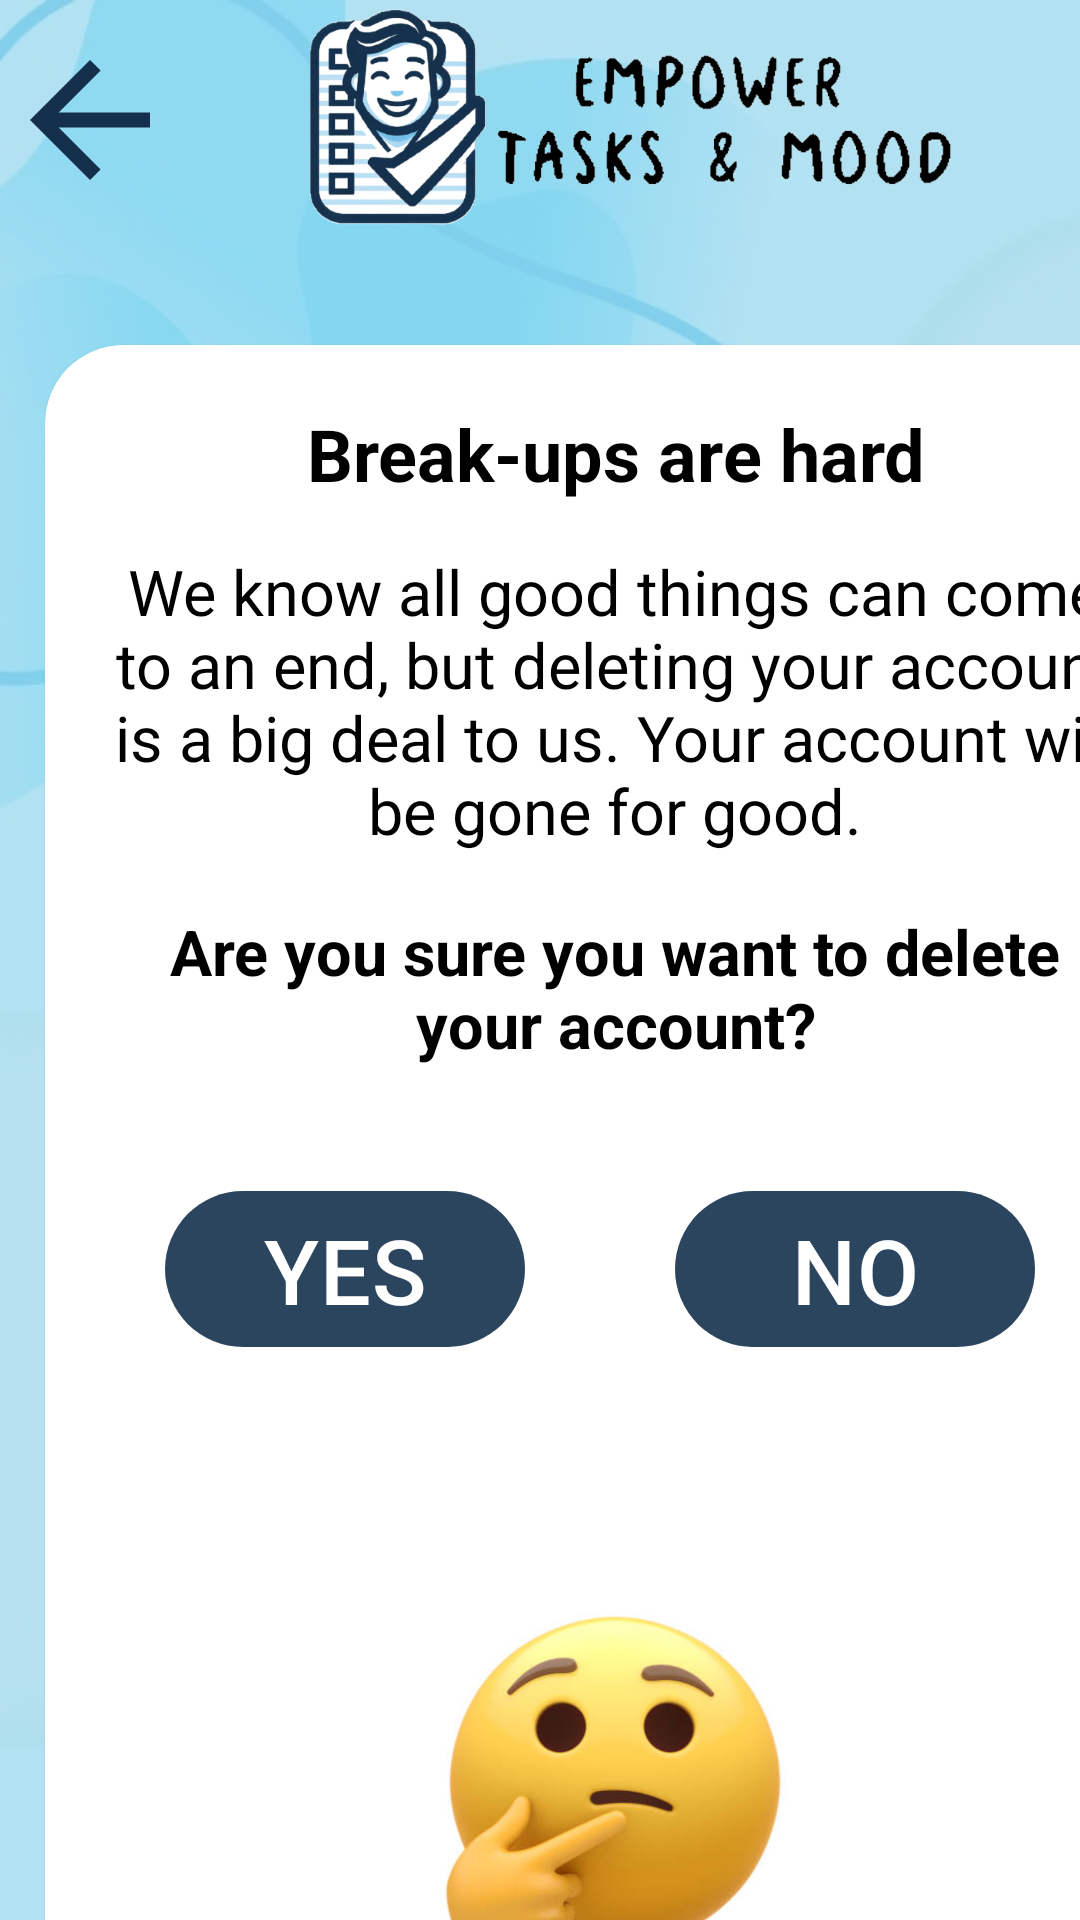

Icon bounding boxes for this 1080w x 1920h phone screenshot, format [left=x1, top=y1, right=x2, bottom=y2]:
arrow back: [left=0, top=0, right=150, bottom=184]
